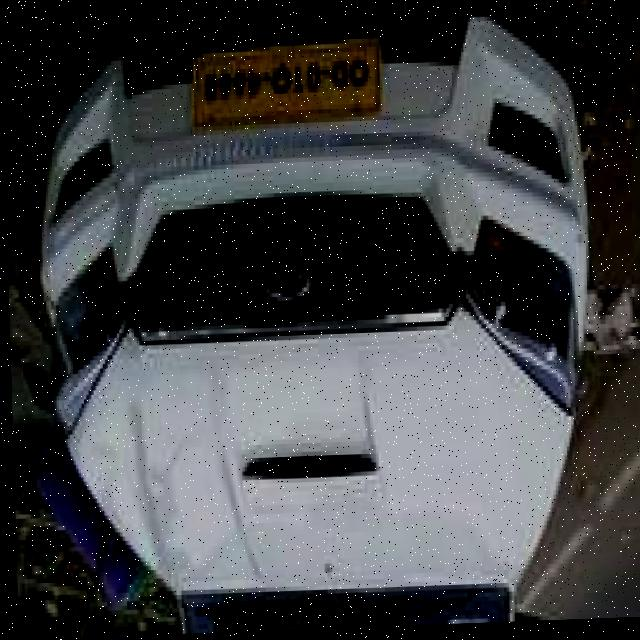plate: (191, 41, 381, 129)
